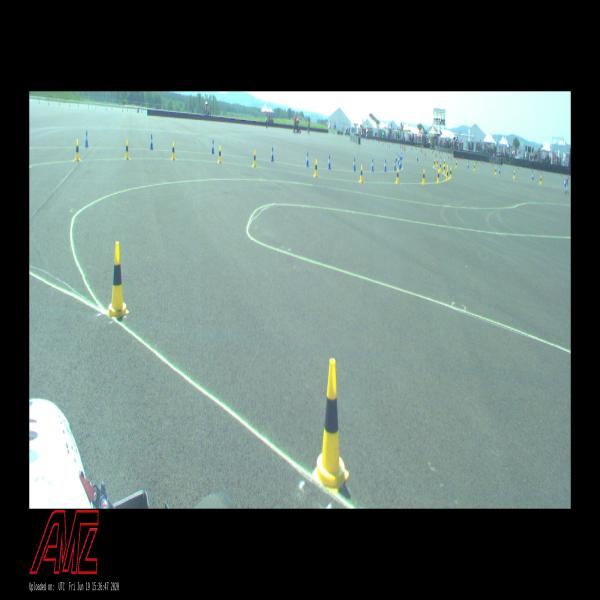blue_cone: (84, 130, 89, 147), (211, 139, 215, 154), (150, 134, 154, 149), (353, 156, 356, 172), (328, 154, 331, 170), (271, 146, 274, 162), (306, 152, 309, 167), (371, 158, 374, 172), (384, 159, 387, 172), (400, 157, 402, 169), (394, 160, 396, 171), (399, 160, 401, 170), (564, 178, 566, 187), (532, 172, 534, 180), (416, 154, 418, 160), (467, 162, 469, 168), (396, 153, 397, 162), (499, 166, 500, 174), (401, 152, 402, 160), (398, 156, 399, 164)
yellow_cone: (312, 359, 349, 495), (107, 242, 129, 318), (74, 139, 81, 162), (124, 140, 130, 160), (171, 142, 176, 161), (252, 150, 257, 168), (314, 159, 318, 178), (218, 145, 222, 163), (360, 165, 364, 183), (396, 168, 399, 184), (422, 169, 425, 184), (437, 170, 440, 183), (449, 167, 452, 179), (446, 169, 448, 181), (446, 164, 448, 176), (444, 164, 446, 174), (433, 159, 435, 168), (439, 162, 441, 171), (513, 170, 515, 178), (540, 176, 542, 184), (443, 159, 445, 167), (474, 163, 476, 171), (495, 166, 496, 175), (437, 158, 438, 166), (456, 161, 457, 168)
